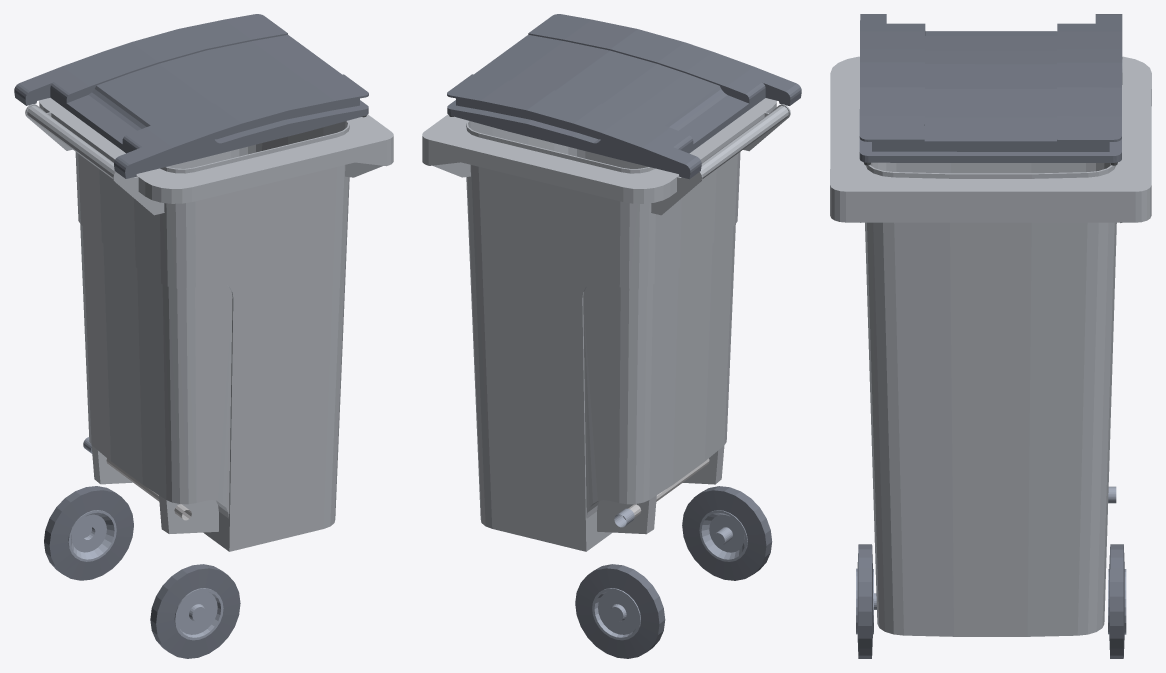
File: appearance.glb
3 views of the same model, side by side, from view 1: azimuth 30°, elevation 25°; view 2: azimuth 150°, elevation 25°; view 3: azimuth 270°, elevation 25° (orthographic). The views are drawn at different scales.
Parts seen in each view (by area): view 1: visual_0_6, visual_1_0, visual_3_2, visual_2_0, visual_0_7, visual_3_4, visual_0_0, visual_2_1, visual_0_8, visual_0_9; view 2: visual_0_6, visual_1_0, visual_2_0, visual_3_2, visual_0_9, visual_0_0, visual_3_1, visual_2_4, visual_0_7, visual_0_3; view 3: visual_0_6, visual_1_0, visual_2_0, visual_3_2.
Boxes of the visible parts, x1,y1,x2,y2 form: visual_0_6: [39, 97, 393, 551]; visual_1_0: [14, 14, 368, 178]; visual_3_2: [44, 486, 133, 580]; visual_2_0: [150, 564, 240, 658]; visual_0_7: [159, 495, 218, 533]; visual_3_4: [71, 512, 114, 559]; visual_0_0: [27, 105, 114, 178]; visual_2_1: [177, 591, 220, 637]; visual_0_8: [112, 171, 164, 215]; visual_0_9: [91, 445, 132, 484]; visual_0_6: [422, 98, 776, 551]; visual_1_0: [447, 14, 801, 179]; visual_2_0: [682, 486, 772, 580]; visual_3_2: [575, 564, 665, 658]; visual_0_9: [597, 495, 656, 534]; visual_0_0: [700, 106, 788, 178]; visual_3_1: [594, 591, 637, 637]; visual_2_4: [701, 512, 745, 559]; visual_0_7: [683, 445, 724, 484]; visual_0_3: [651, 171, 702, 215]; visual_0_6: [830, 56, 1151, 636]; visual_1_0: [859, 14, 1122, 162]; visual_2_0: [857, 544, 872, 658]; visual_3_2: [1109, 544, 1124, 658].
Size of the model in its own units: 1.06 by 2.03 by 0.9586.
